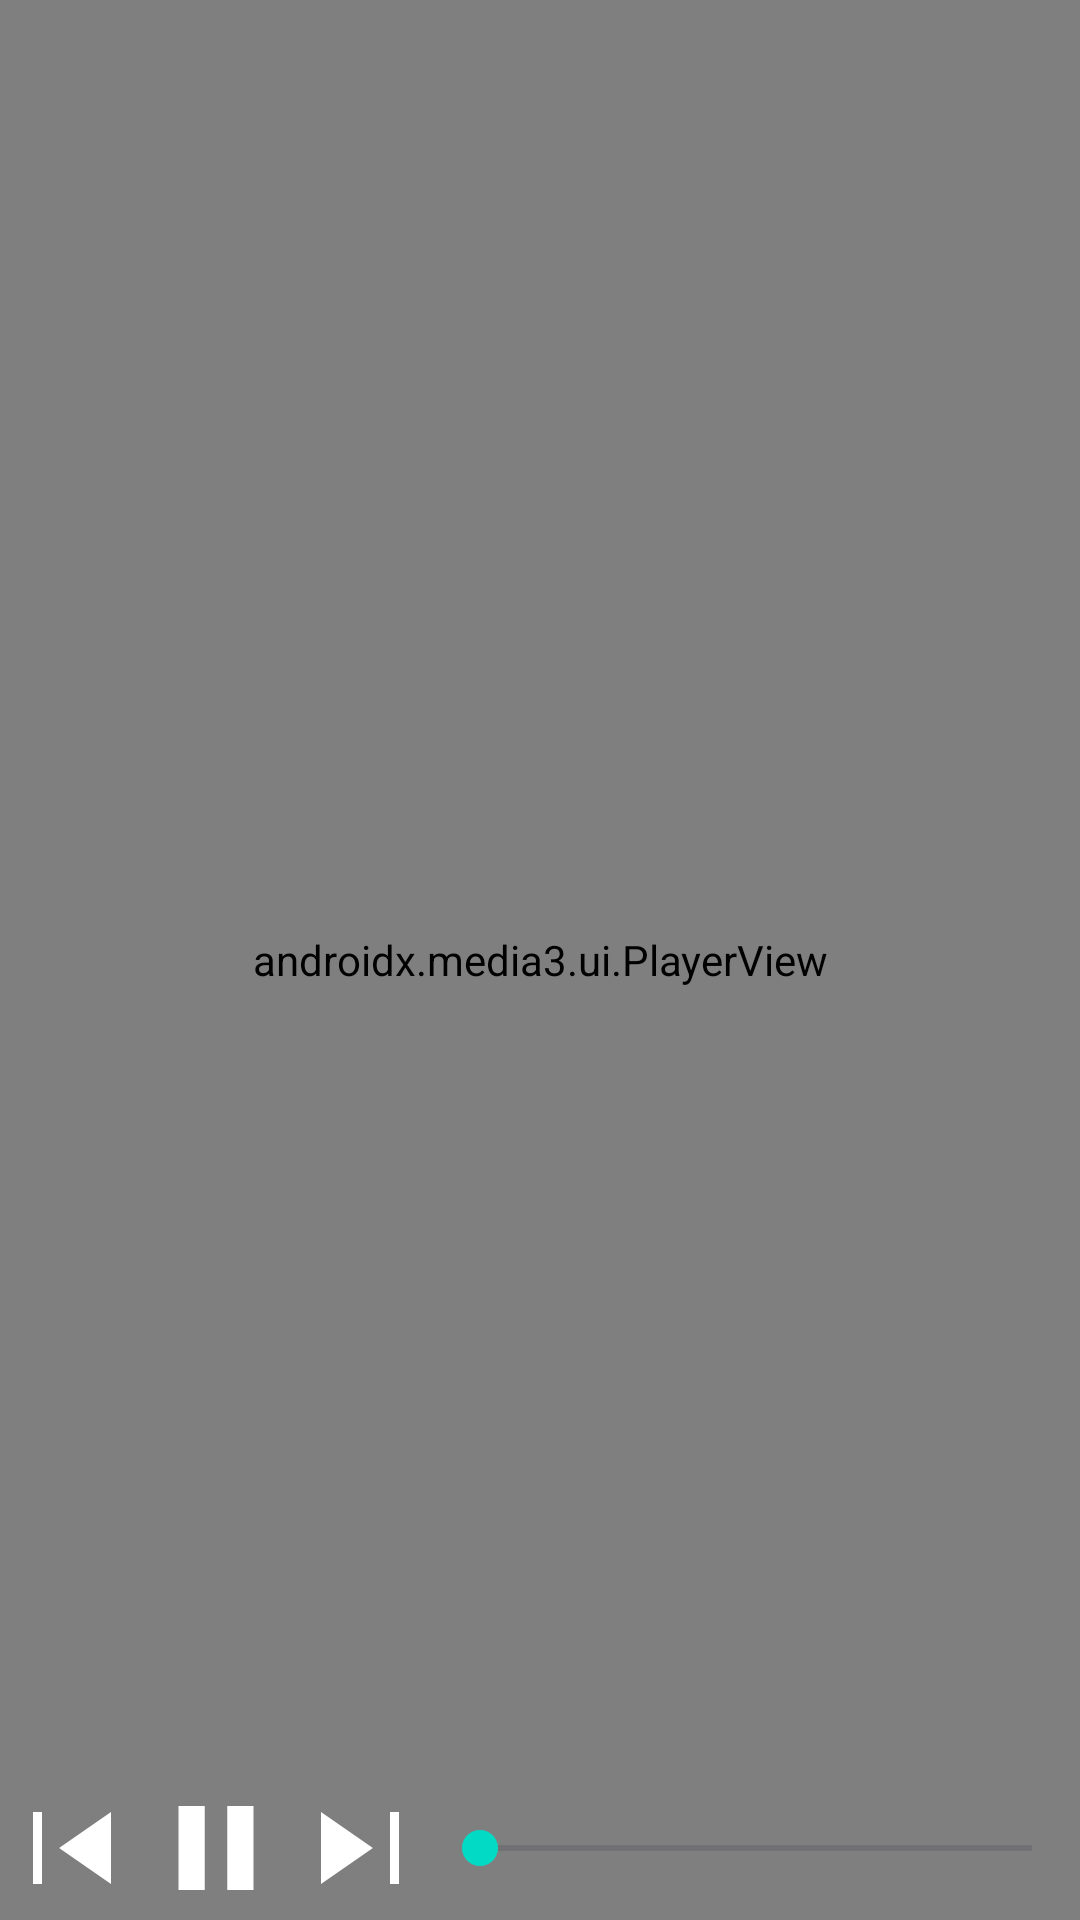

Where to tap for icons on this 1080 x 1920 app screen, as (x,y):
pause: (216,1848)
skip next: (360,1848)
skip previous: (72,1848)
